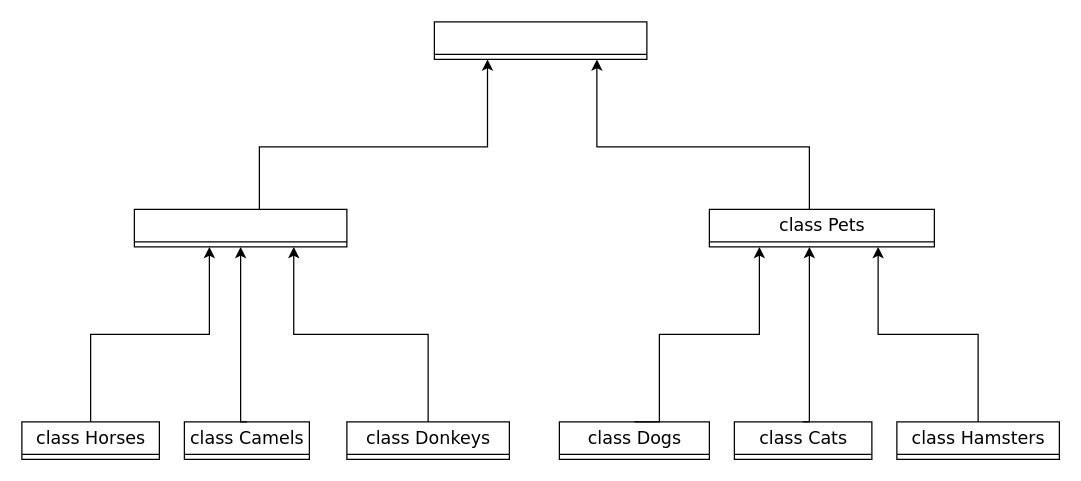
Image size: 1081x481. Some labels were removed from this diagram. The shapes that lost their labels are listed below. From the top down, each one's centre as x and y in pixels, then its label:
At point (540, 40): "class Animal".
At point (240, 227): "class PackAnimals".
